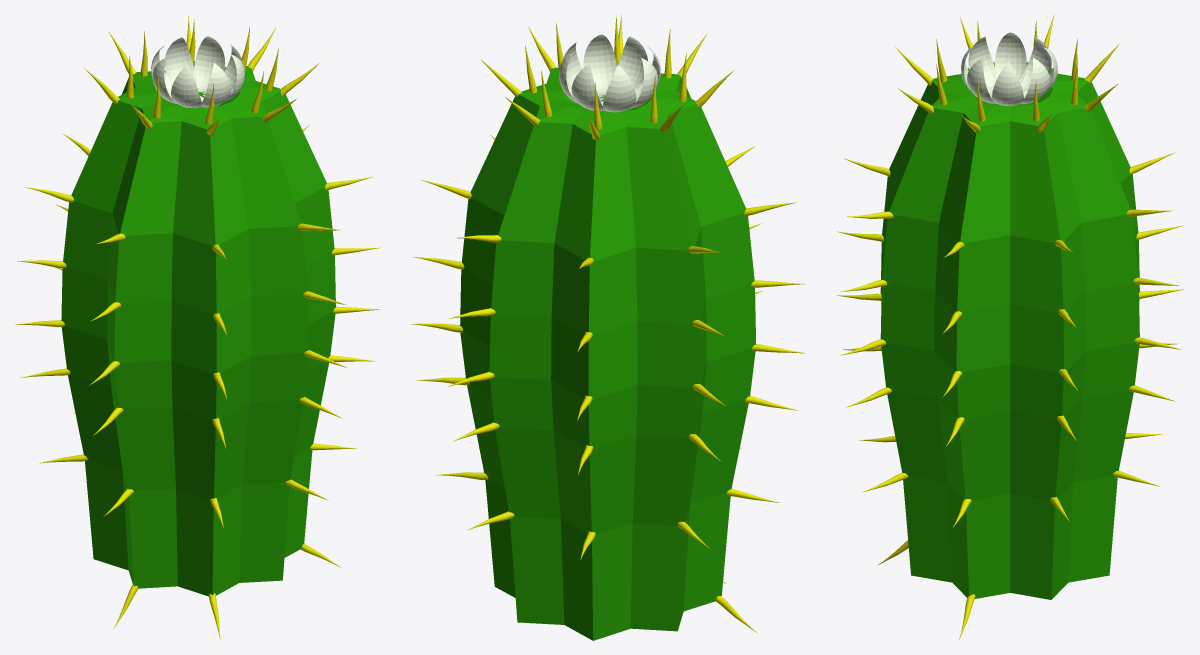
The model's file is kaktus.fbx.
3 views of the same model, side by side, from view 1: azimuth 30°, elevation 25°; view 2: azimuth 150°, elevation 25°; view 3: azimuth 270°, elevation 25° (orthographic). The views are drawn at different scales.
Visible parts, largest first — view 1: Cube; view 2: Cube; view 3: Cube.
Boxes of the visible parts, x1,y1,x2,y2 form: Cube: (61,36,335,596); Cube: (460,34,755,640); Cube: (880,32,1139,599).
Bounding box in the file's own units: 323 × 555 × 326.
